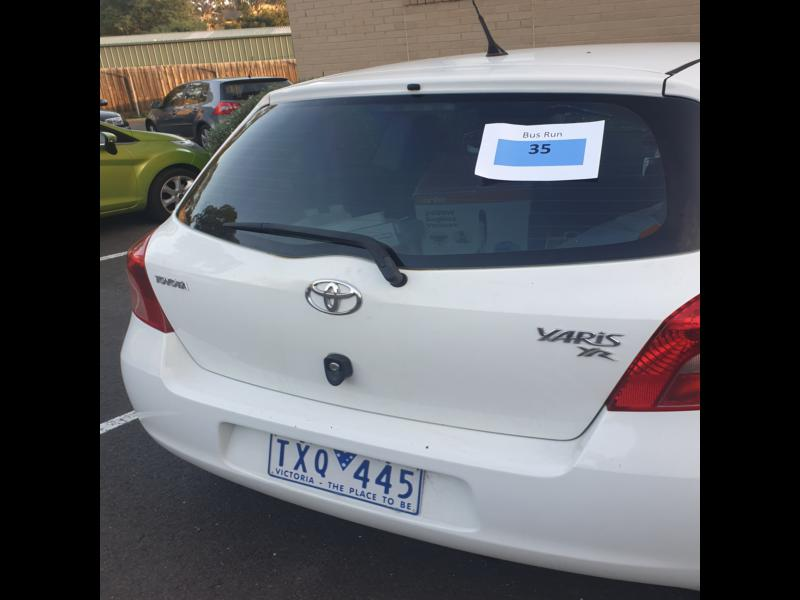BusRun: (495, 137, 588, 169)
PlateNo: (269, 434, 422, 513)
